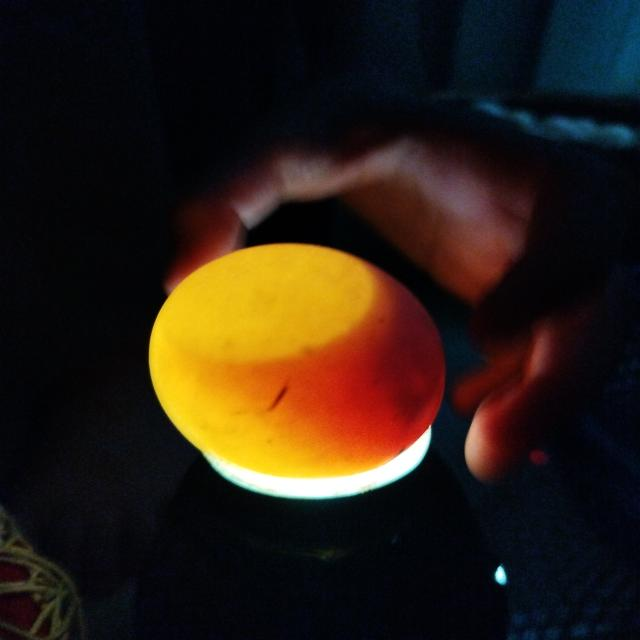Area Infectada: (373, 292, 444, 421)
